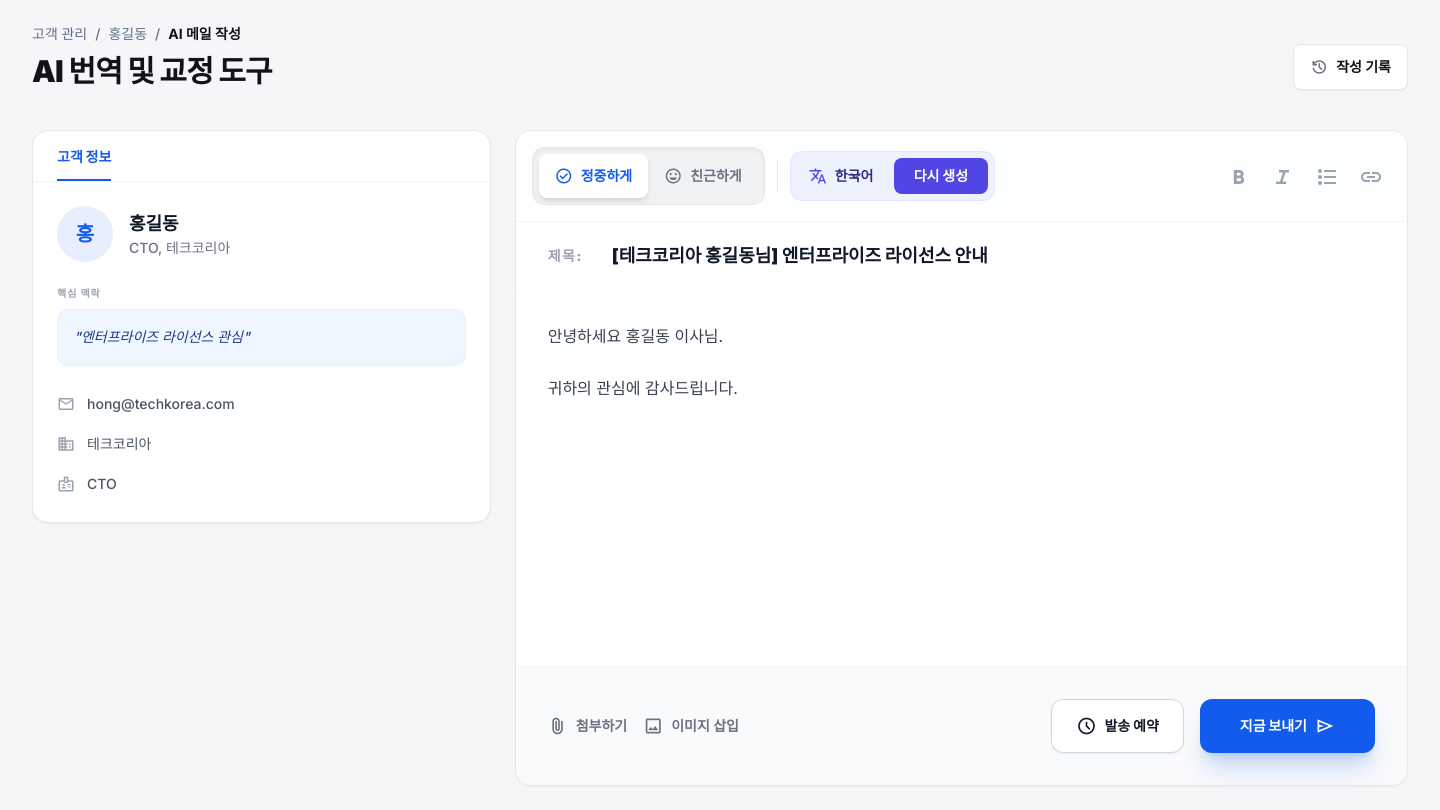
EmailComposer › 지금 보내기 › 발송 실패 시 에러 토스트를 표시한다
Step 1. Click the button "지금 보내기" → (1287, 726), box left=1200, top=699, right=1375, bottom=753
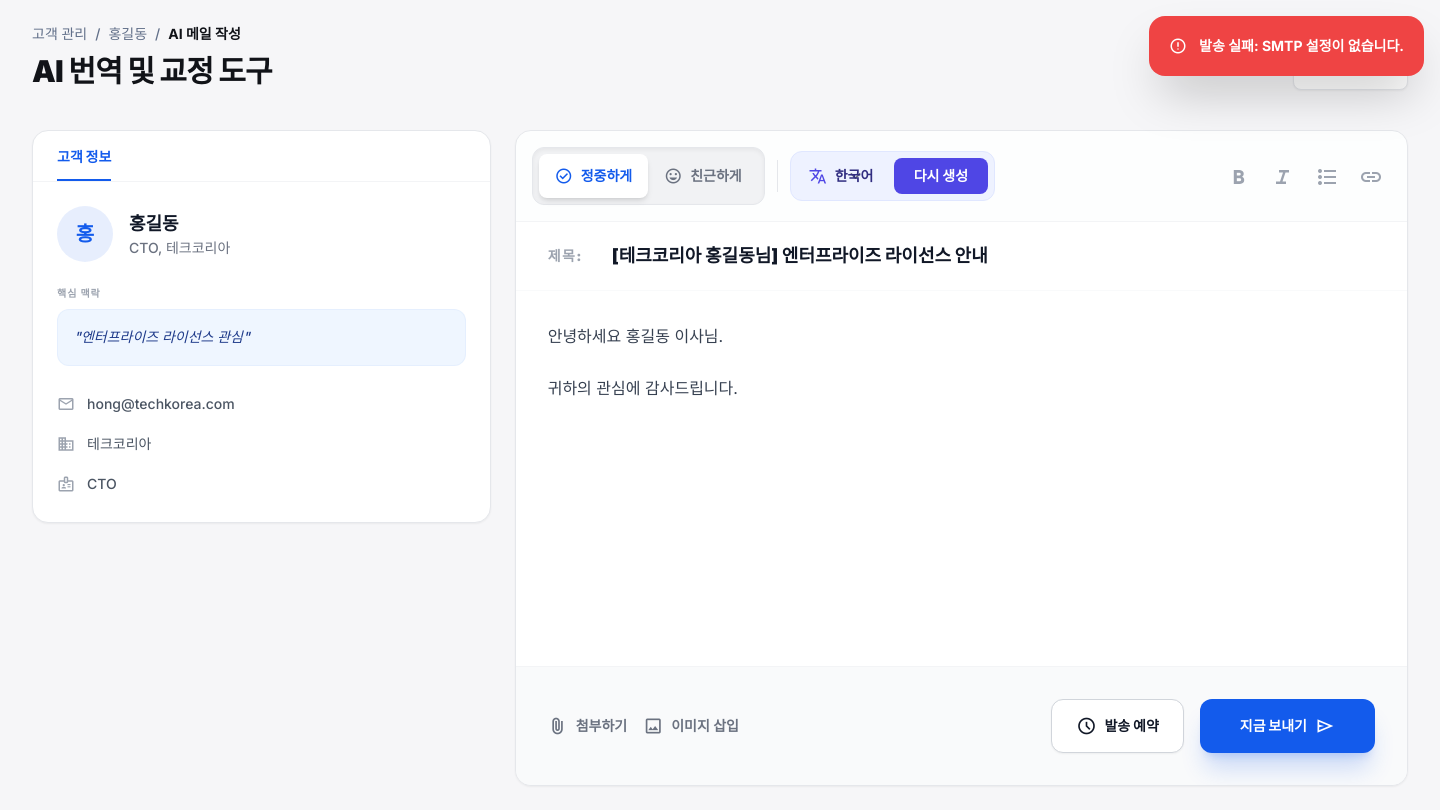
Now the text "발송 실패: SMTP 설정이 없습니다." is shown, box left=1149, top=16, right=1424, bottom=76
